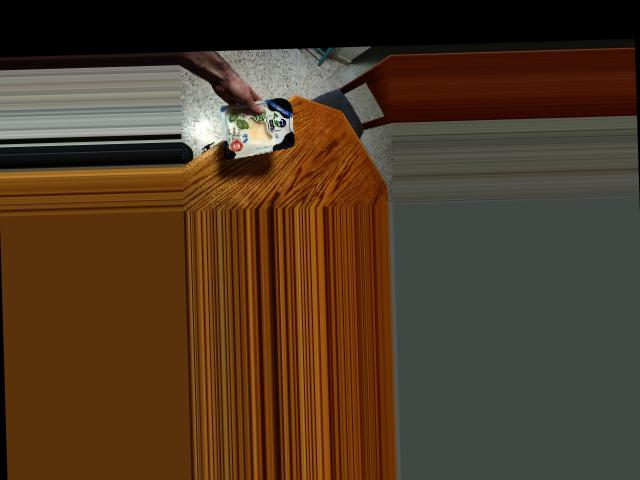cheese: (212, 94, 305, 159)
